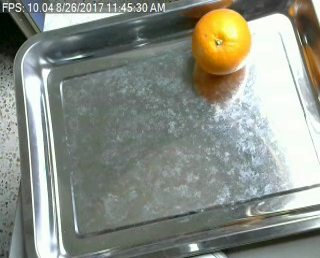Orange: (192, 8, 252, 75)
